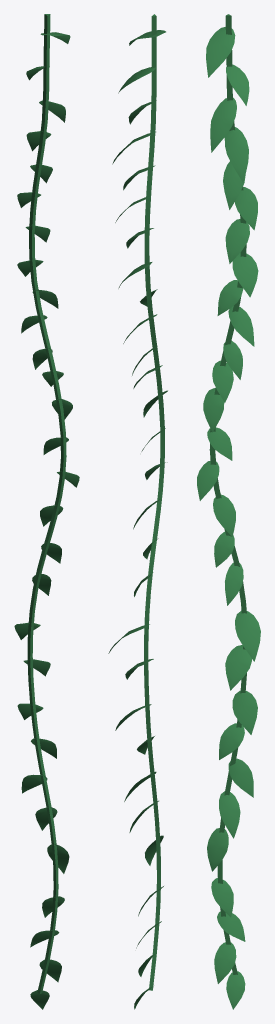
File: vine_curved_A_scanden.fbx
3 renders of one model, left to right at view 1: azimuth 90°, elevation 25°; view 2: azimuth 150°, elevation 25°; view 3: azimuth 270°, elevation 25°, orthographic.
Parts seen in each view (by area): view 1: vine_curved_A_scanden_root, vine_scanden_A_leaf_A469, vine_scanden_A_leaf_A472, vine_scanden_A_leaf_A466, vine_scanden_A_leaf_A470, vine_scanden_A_leaf_A467, vine_scanden_A_leaf_A453, vine_scanden_A_leaf_A461, vine_scanden_A_leaf_A473, vine_scanden_A_leaf_A458, vine_scanden_A_leaf_A474, vine_scanden_A_leaf_A460 (+13 smaller); view 2: vine_curved_A_scanden_root, vine_scanden_A_leaf_A452, vine_scanden_A_leaf_A469; view 3: vine_curved_A_scanden_root, vine_scanden_A_leaf_A455, vine_scanden_A_leaf_A453, vine_scanden_A_leaf_A471, vine_scanden_A_leaf_A, vine_scanden_A_leaf_A477, vine_scanden_A_leaf_A468, vine_scanden_A_leaf_A456, vine_scanden_A_leaf_A454, vine_scanden_A_leaf_A470, vine_scanden_A_leaf_A469, vine_scanden_A_leaf_A450 (+18 smaller).
Part boxes in pixels (x1,y1,x2,y2): vine_curved_A_scanden_root: [27, 14, 66, 993]; vine_scanden_A_leaf_A469: [47, 844, 69, 873]; vine_scanden_A_leaf_A472: [39, 959, 61, 982]; vine_scanden_A_leaf_A466: [21, 774, 47, 793]; vine_scanden_A_leaf_A470: [35, 807, 57, 830]; vine_scanden_A_leaf_A467: [31, 738, 56, 758]; vine_scanden_A_leaf_A453: [39, 100, 65, 122]; vine_scanden_A_leaf_A461: [40, 505, 63, 526]; vine_scanden_A_leaf_A473: [42, 896, 64, 917]; vine_scanden_A_leaf_A458: [41, 542, 61, 563]; vine_scanden_A_leaf_A474: [30, 990, 49, 1009]; vine_scanden_A_leaf_A460: [32, 289, 58, 308]; vine_curved_A_scanden_root: [144, 14, 164, 990]; vine_scanden_A_leaf_A452: [118, 67, 155, 93]; vine_scanden_A_leaf_A469: [145, 835, 163, 865]; vine_curved_A_scanden_root: [209, 14, 246, 974]; vine_scanden_A_leaf_A455: [206, 27, 235, 77]; vine_scanden_A_leaf_A453: [210, 97, 236, 152]; vine_scanden_A_leaf_A471: [235, 610, 260, 661]; vine_scanden_A_leaf_A: [224, 127, 248, 182]; vine_scanden_A_leaf_A477: [225, 645, 251, 690]; vine_scanden_A_leaf_A468: [232, 690, 257, 734]; vine_scanden_A_leaf_A456: [232, 252, 258, 297]; vine_scanden_A_leaf_A454: [225, 219, 249, 263]; vine_scanden_A_leaf_A470: [219, 791, 240, 838]; vine_scanden_A_leaf_A469: [207, 828, 228, 871]; vine_scanden_A_leaf_A450: [235, 186, 257, 230].
Size of the model in its own units: 24.58 by 527 by 30.98.
